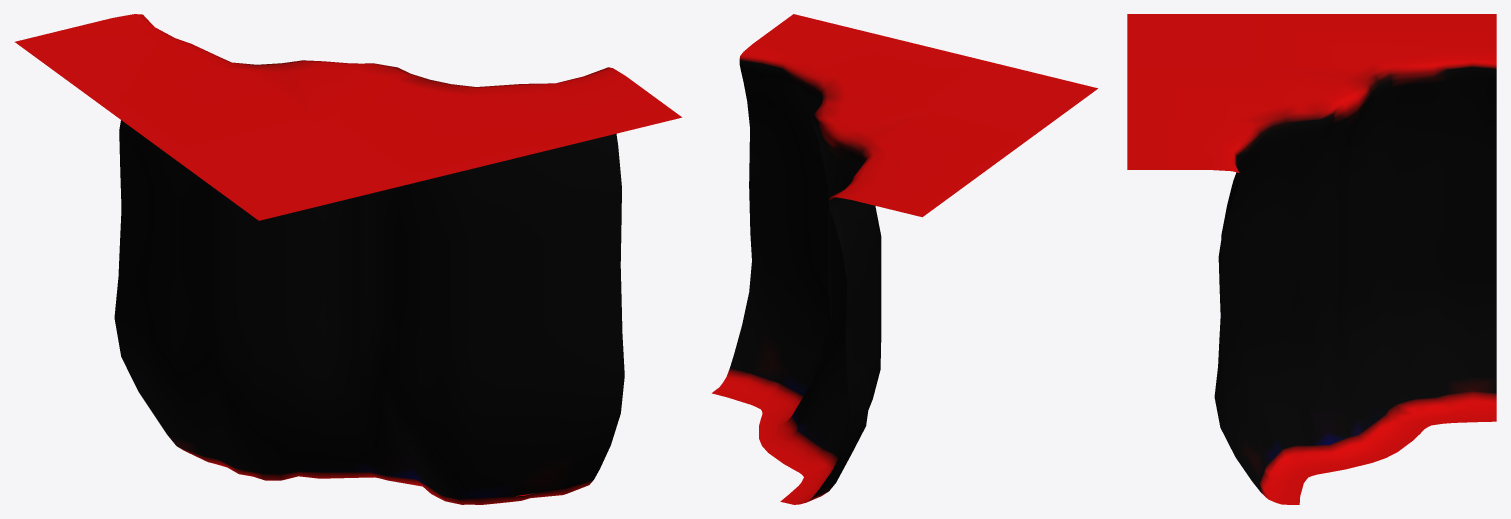
The model's file is GroundCliff04A 3M Background.fbx.
The picture shows the model from 3 angles, left to right: view 1: azimuth 30°, elevation 25°; view 2: azimuth 150°, elevation 25°; view 3: azimuth 270°, elevation 25°; orthographic projection. The views are drawn at different scales.
Visible parts, largest first — view 1: GroundCliff04A 3M Background; view 2: GroundCliff04A 3M Background; view 3: GroundCliff04A 3M Background.
Part boxes in pixels (box(x1,y1,x2,y2)): GroundCliff04A 3M Background: box(15, 14, 681, 504); GroundCliff04A 3M Background: box(712, 14, 1097, 504); GroundCliff04A 3M Background: box(1127, 14, 1496, 504).
Size of the model in its own units: 3 by 3 by 3.
